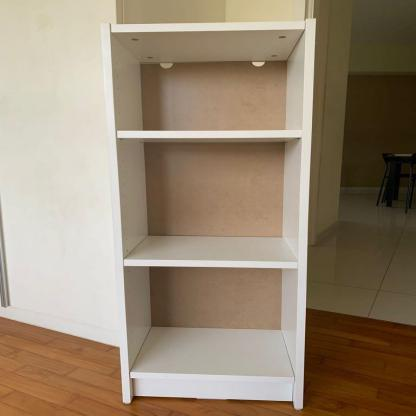lamp: (99, 16, 320, 412)
